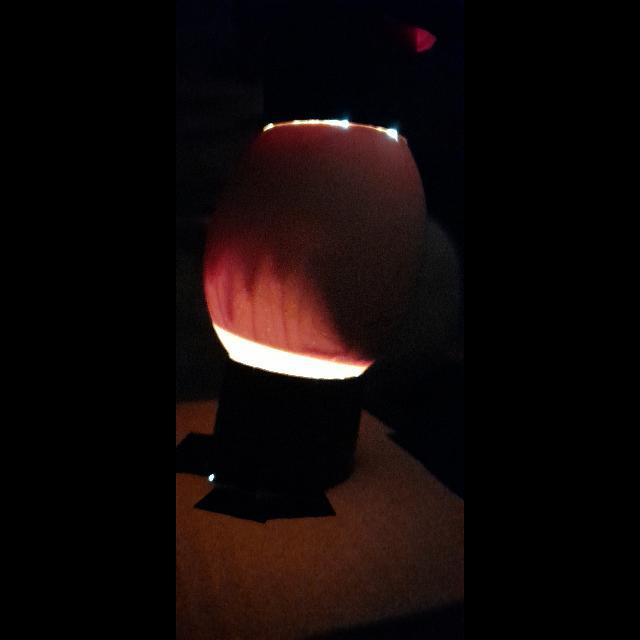Fertile: (199, 119, 417, 378)
